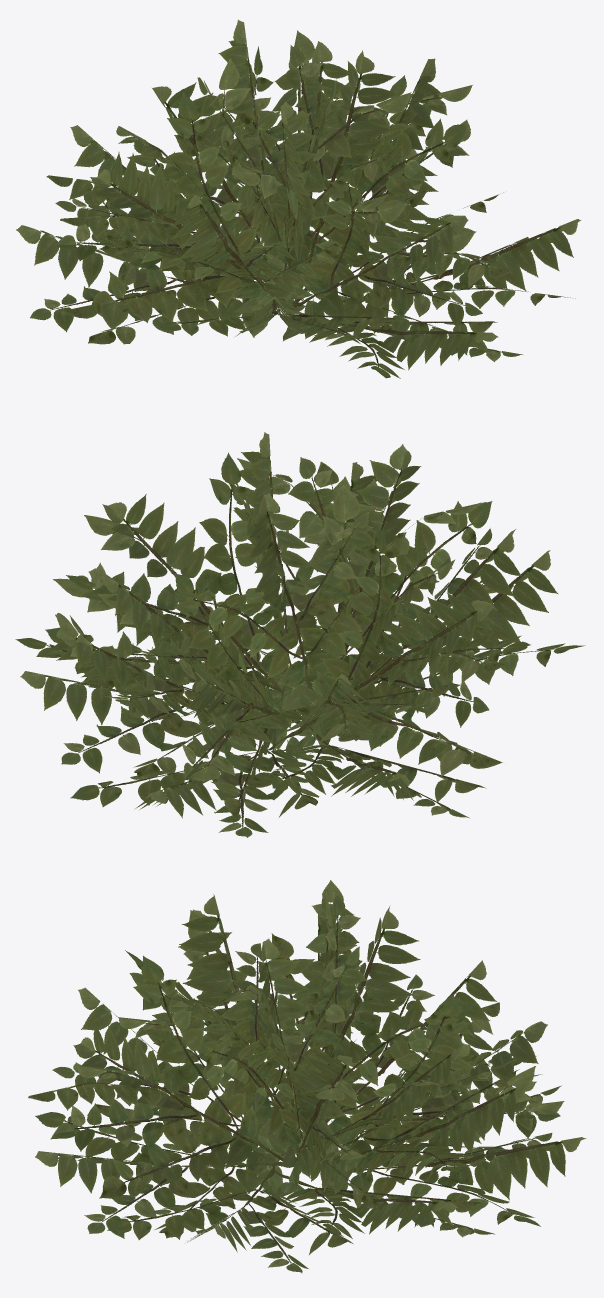
File: Plant_Treebush.FBX
3 renders of one model, top to bottom at view 1: azimuth 30°, elevation 25°; view 2: azimuth 150°, elevation 25°; view 3: azimuth 270°, elevation 25°, orthographic. The views are drawn at different scales.
Visible parts, largest first — view 1: Plant_Treebush; view 2: Plant_Treebush; view 3: Plant_Treebush.
Part boxes in pixels (x1,y1,x2,y2): Plant_Treebush: (16,19,581,378); Plant_Treebush: (15,432,585,837); Plant_Treebush: (28,880,586,1273).
Size of the model in its own units: 166 by 98.38 by 176.
